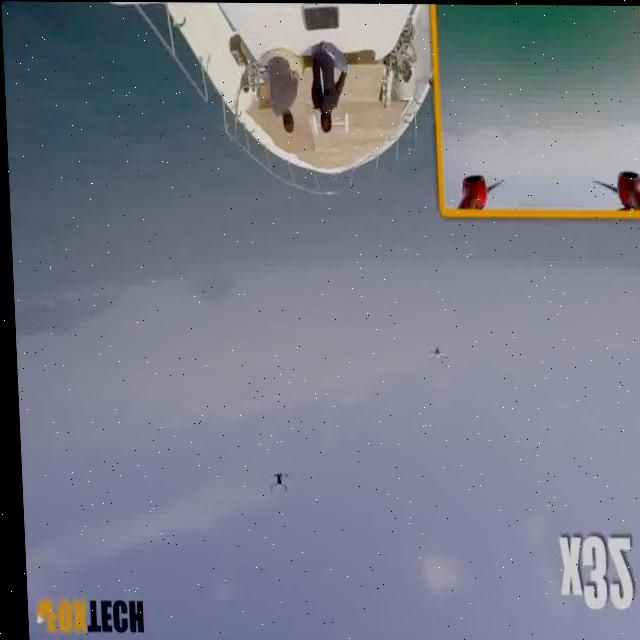drone: (252, 449, 293, 502)
